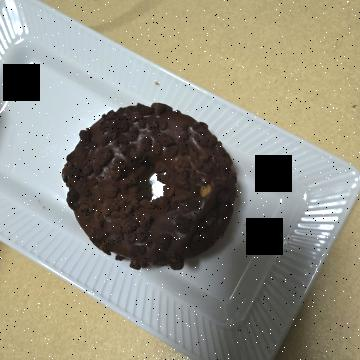doughnut: (81, 117, 278, 314)
